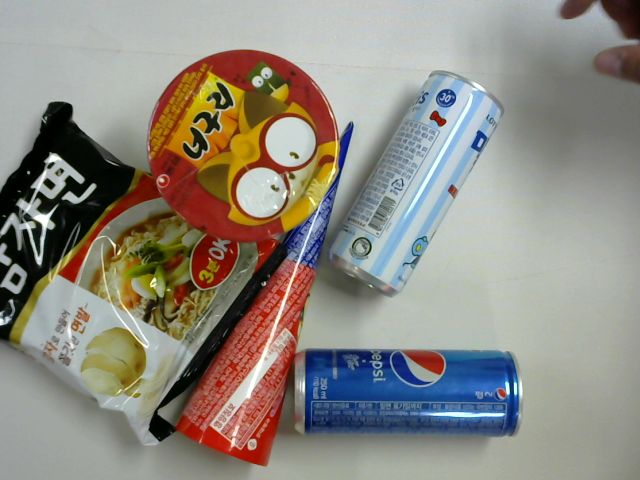Milkies_250ml: (330, 67, 503, 297)
Pepsi_Cola_Can_250ml: (293, 353, 531, 435)
Potato: (1, 107, 282, 434)
Raccoon: (147, 55, 337, 242)
World_Cone_Banila: (178, 121, 355, 460)
